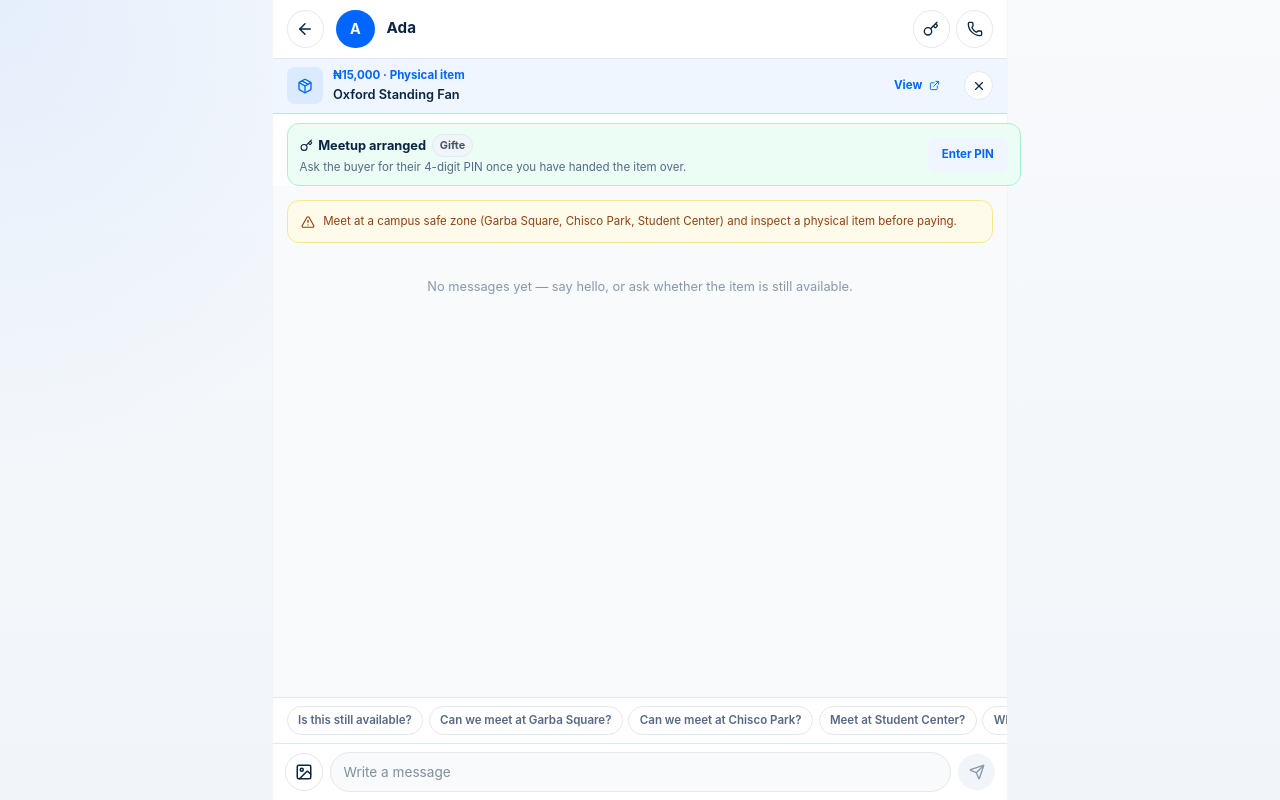
Scenario: Campus handshake › marks the item handed over when the seller enters the right PIN
Click the button named "enter pin" at (372, 145), box top-left (287, 123), bottom-right (1021, 186)
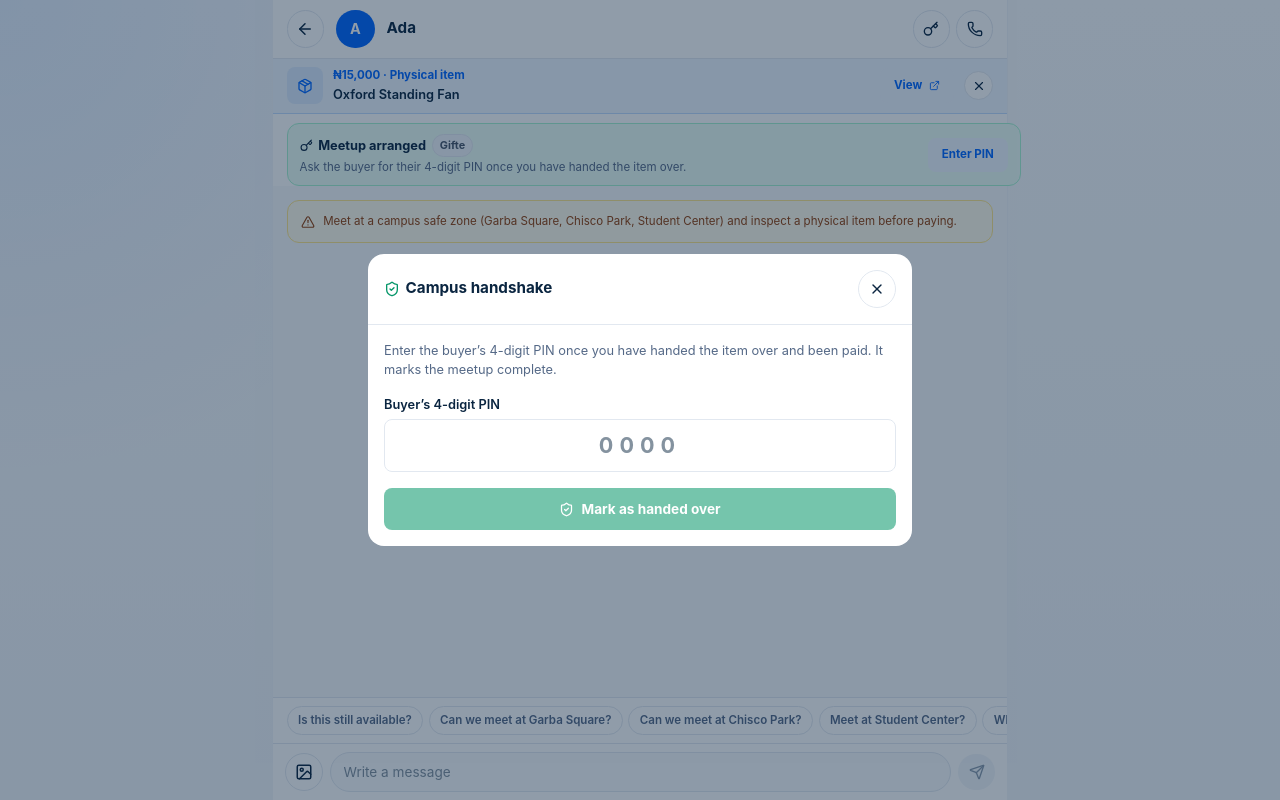
Type "4821" into the field labelled "Buyer’s 4-digit PIN" at (640, 446), box top-left (384, 419), bottom-right (896, 472)
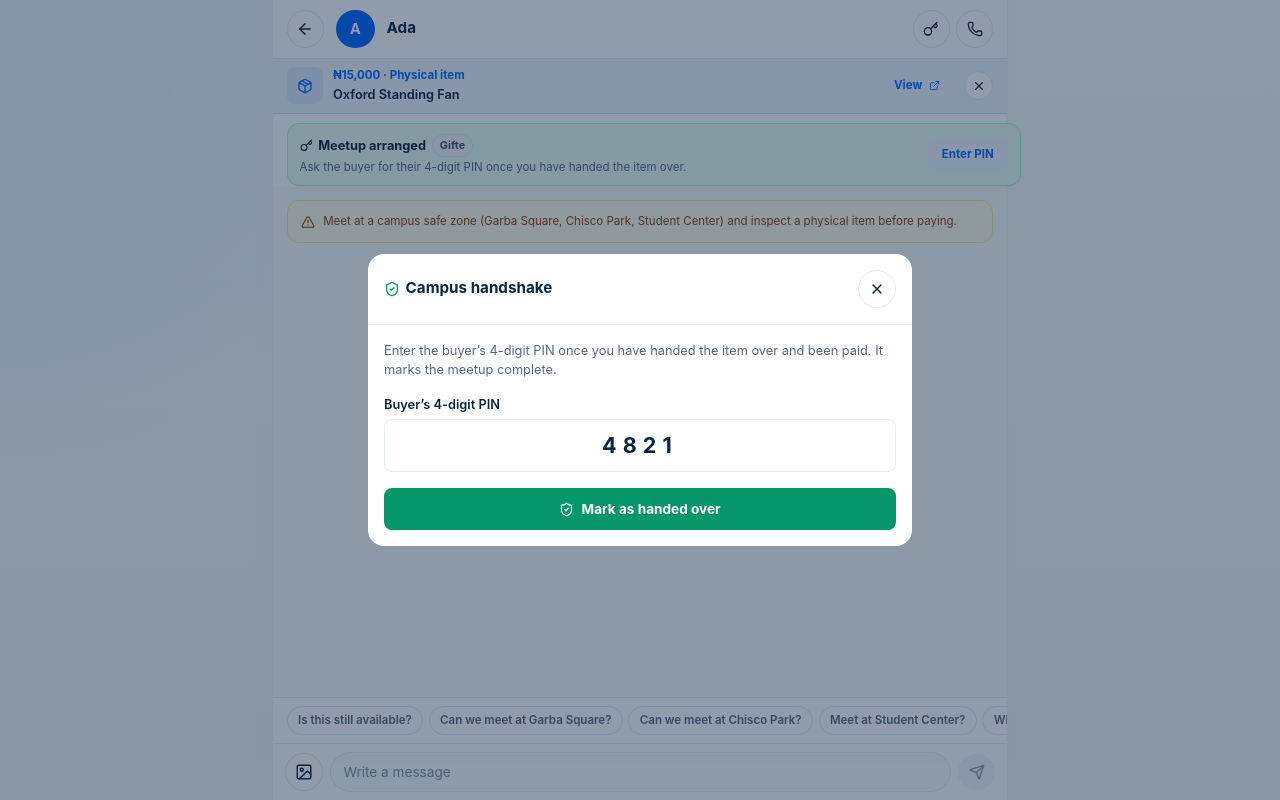
Click the button "Mark as handed over" at (640, 509), box top-left (384, 488), bottom-right (896, 530)
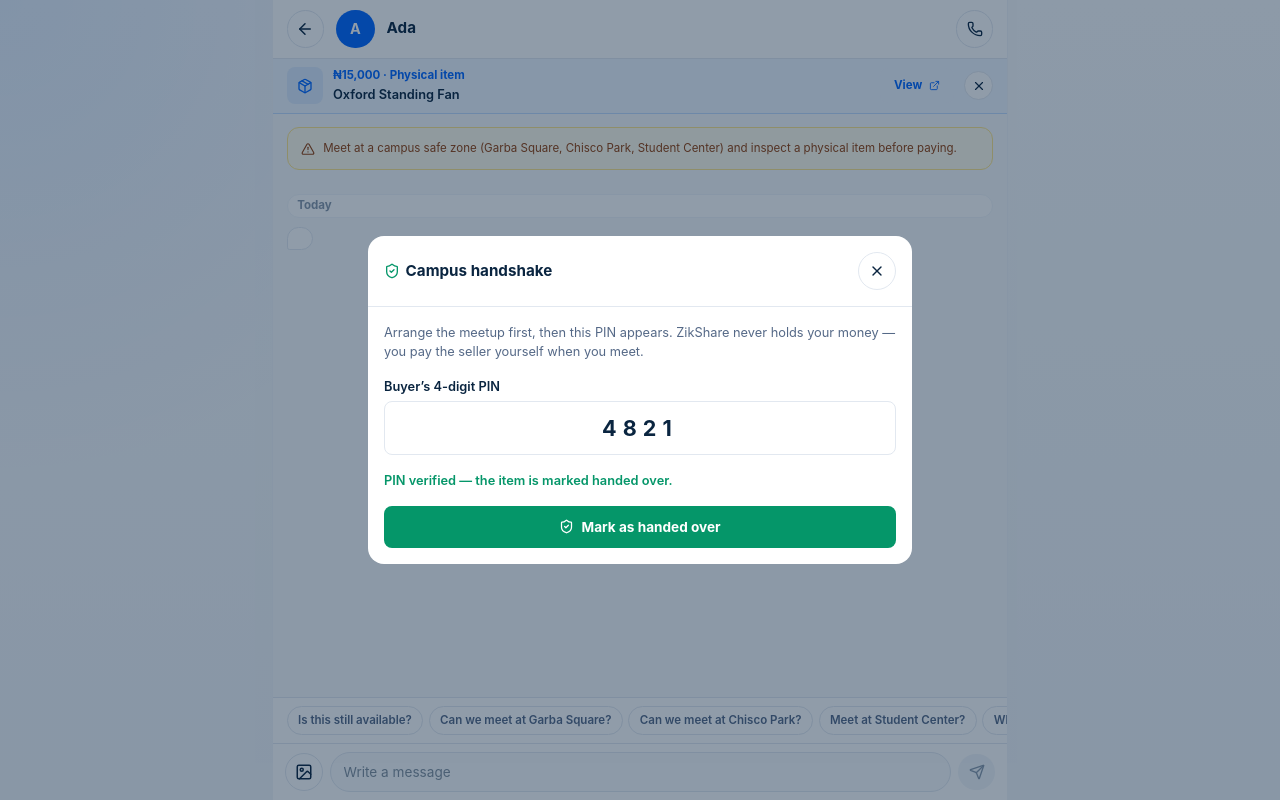
Expected: the text "PIN verified — the item is marked handed over." is shown, top-left (384, 473), bottom-right (673, 488)
